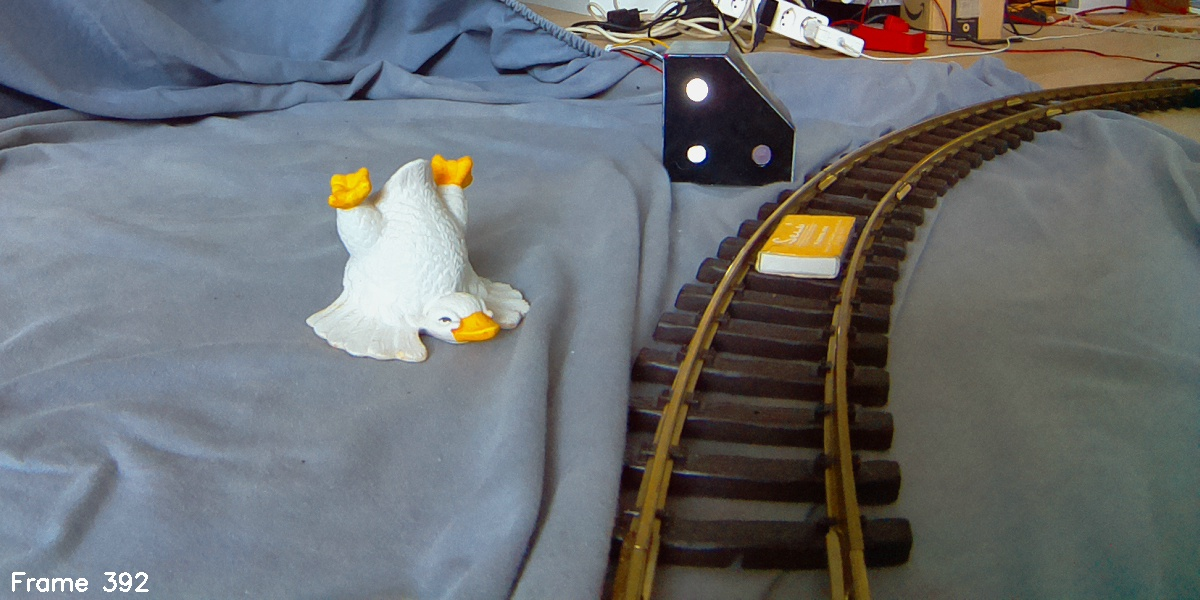Ente: (308, 150, 534, 367)
Fahrt: (666, 39, 793, 189)
